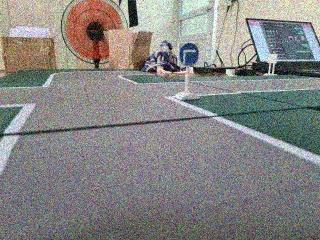right: (175, 38, 203, 71)
